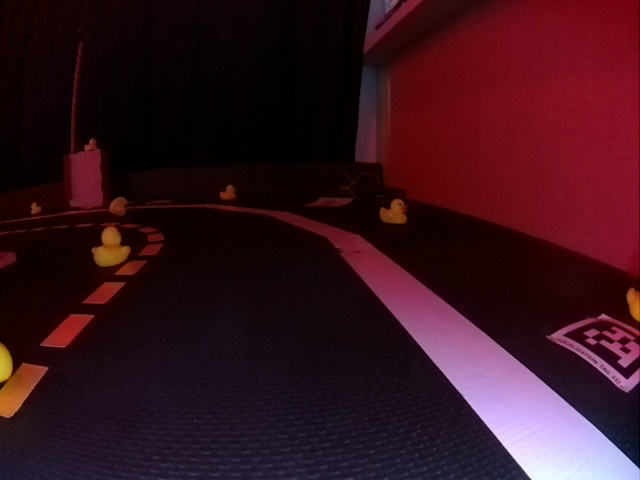Duckie: (93, 229, 130, 265), (379, 199, 406, 223), (110, 197, 128, 215), (219, 186, 236, 200), (30, 202, 40, 213), (87, 138, 96, 148)
QR code: (556, 314, 637, 391)
